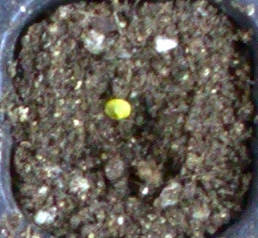pepper seed: (38, 38, 169, 159)
